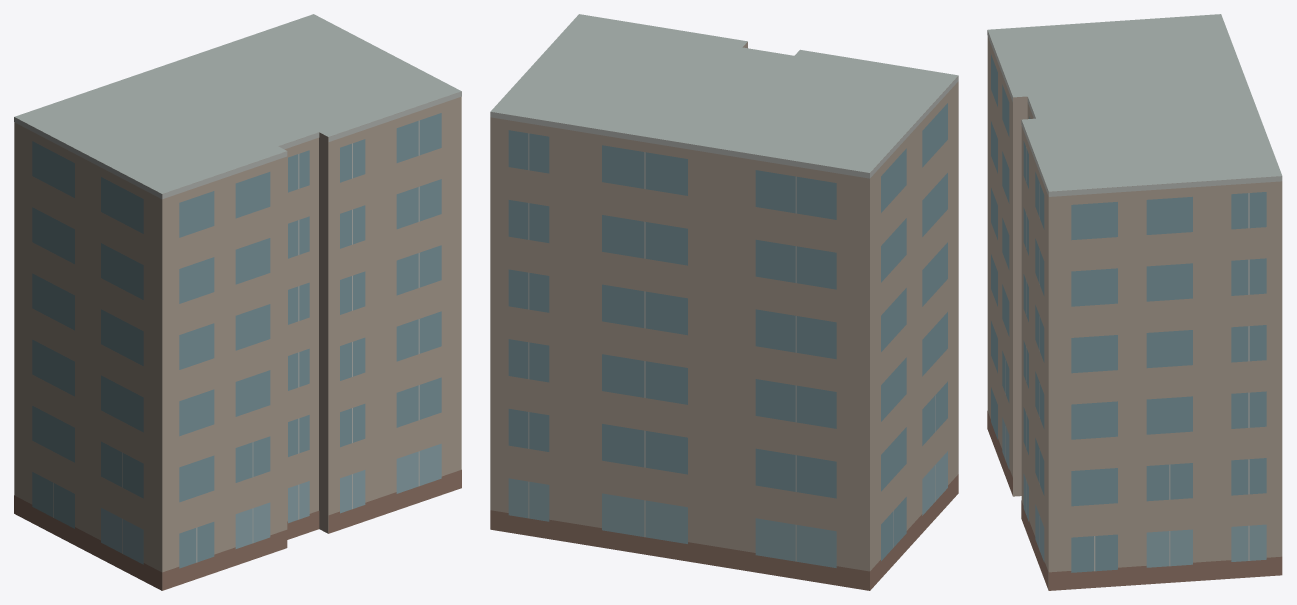
Rendered from survey-upis-32988575.glb.
3 views of the same model, side by side, from view 1: azimuth 30°, elevation 25°; view 2: azimuth 150°, elevation 25°; view 3: azimuth 270°, elevation 25° (orthographic). The views are drawn at different scales.
Visible parts, largest first — view 1: survey-upis-32988575.tmp; view 2: survey-upis-32988575.tmp; view 3: survey-upis-32988575.tmp.
Boxes of the visible parts, <box> form: survey-upis-32988575.tmp: <box>14,14,461,590</box>; survey-upis-32988575.tmp: <box>490,14,958,590</box>; survey-upis-32988575.tmp: <box>987,14,1282,590</box>.
Size of the model in its own units: 17.48 by 18.3 by 12.27.
